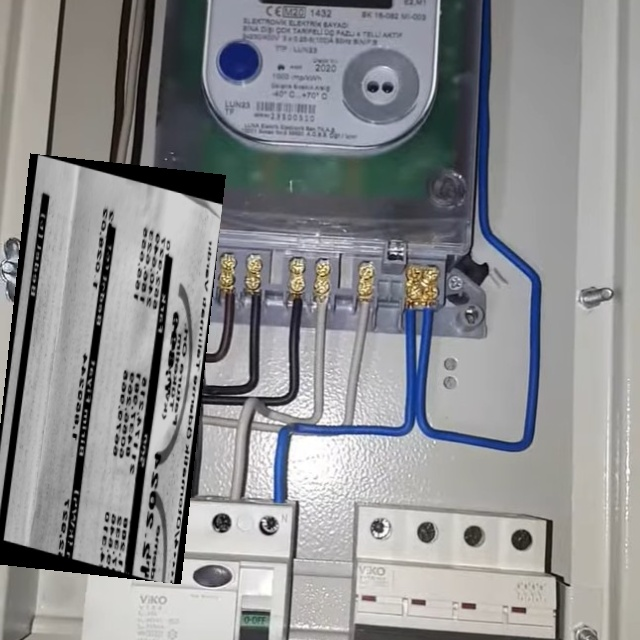electricity-bill: (0, 152, 225, 584)
